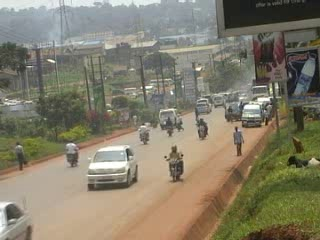Car: (85, 142, 140, 190), (0, 195, 39, 236), (193, 99, 211, 115)
Motorcycle: (163, 140, 190, 182), (64, 137, 80, 169), (193, 117, 211, 140), (136, 119, 151, 146), (162, 115, 175, 138)
